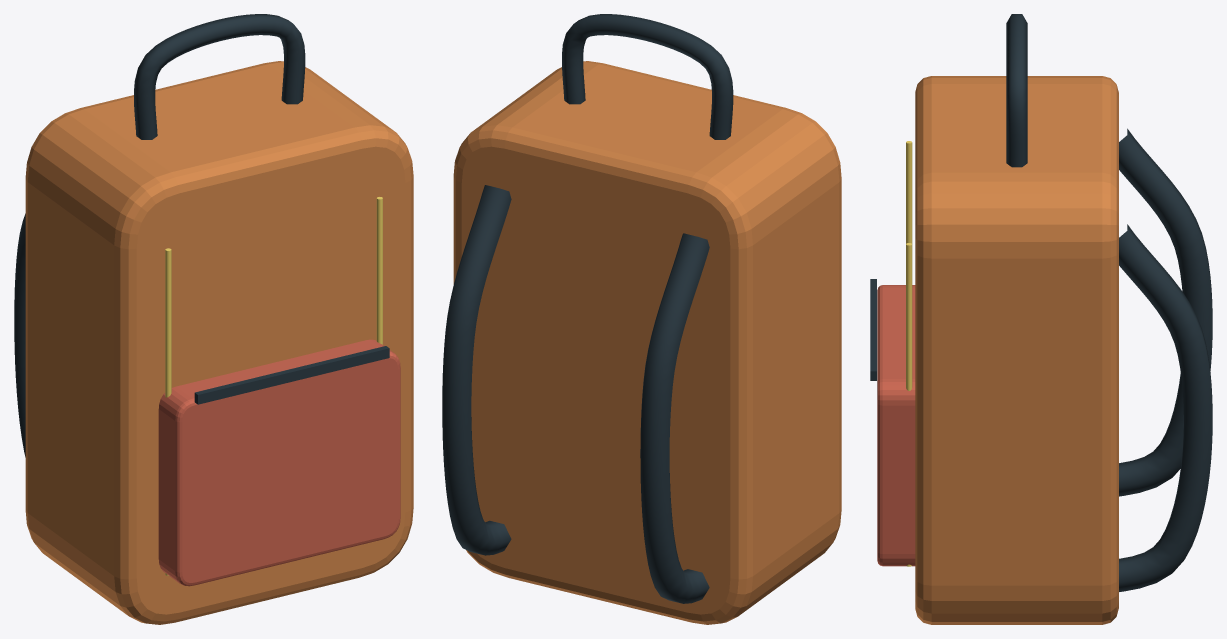
Rendered from backpack.glb.
3 renders of one model, left to right at view 1: azimuth 30°, elevation 25°; view 2: azimuth 150°, elevation 25°; view 3: azimuth 270°, elevation 25°, orthographic.
Visible parts, largest first — view 1: backpack; view 2: backpack; view 3: backpack.
Boxes of the visible parts, x1,y1,x2,y2 form: backpack: (14,14,413,624); backpack: (442,14,841,624); backpack: (870,14,1212,624).
Size of the model in its own units: 0.45 by 0.7894 by 0.4539.
